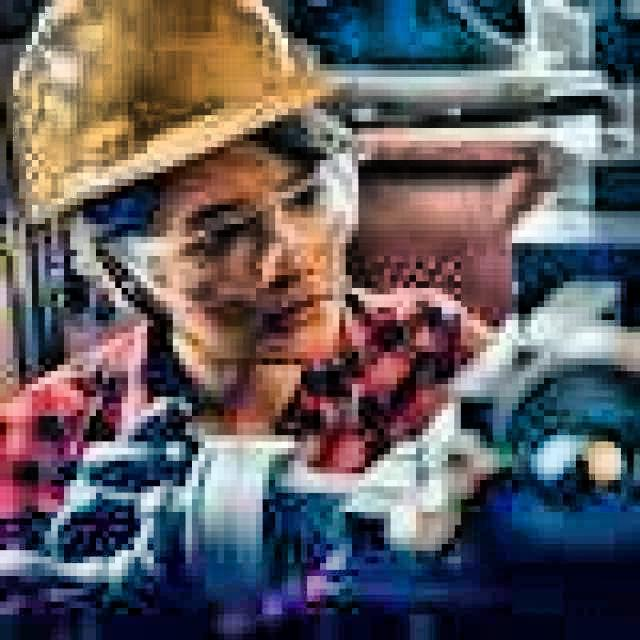safety_helmet: (6, 0, 341, 232)
safety_jacket: (1, 1, 638, 637)
